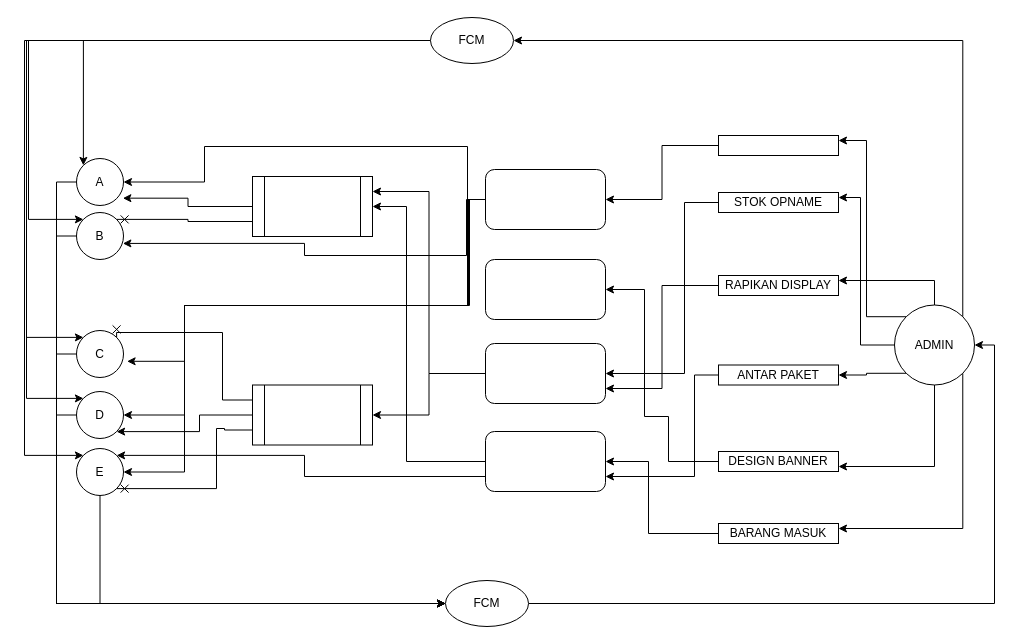
Image size: 1020x644. Some labels were removed from this diagram. The shapes that lost their labels are listed below. From the top down, each one's box as (x1, y1, x2, y2) in pixels, then its label:
(718, 134, 838, 156): BERSIH LANTAI
(252, 176, 372, 236): TOKO 1
(484, 168, 606, 230): RUTIN
(484, 258, 606, 320): INDIVIDU
(484, 342, 606, 404): TOKO
(252, 384, 372, 445): TOKO 2
(484, 430, 606, 492): URGENSI
